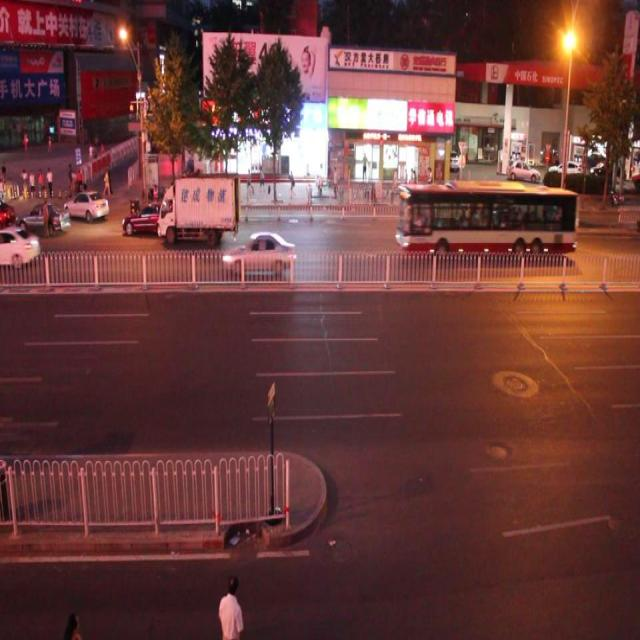bus: (153, 184, 240, 259)
car: (220, 228, 295, 278), (122, 199, 180, 240), (14, 201, 71, 239), (0, 224, 40, 270), (66, 188, 109, 222)
van: (395, 183, 577, 258)
